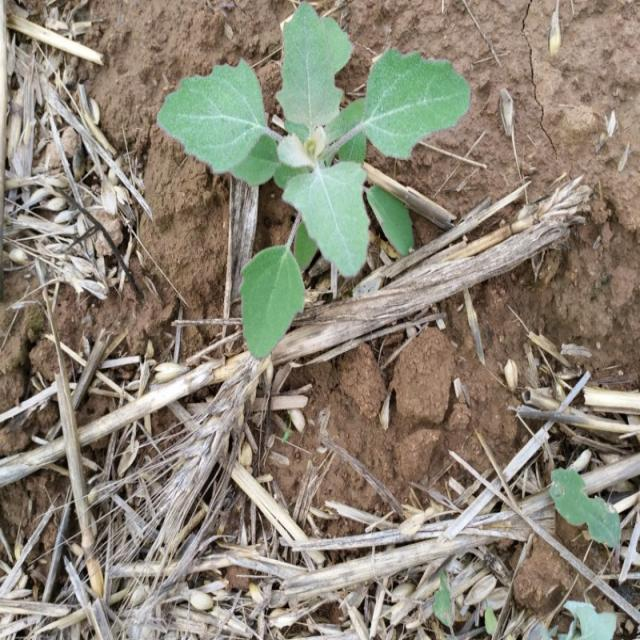goosefoots: (158, 12, 462, 360)
